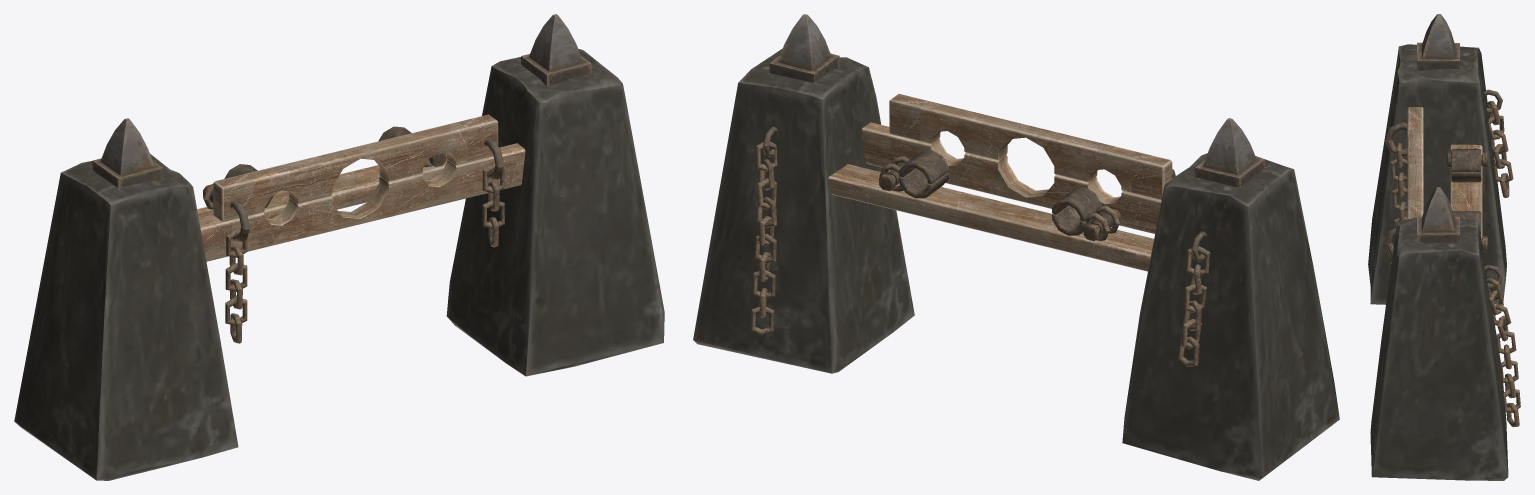
3 renders of one model, left to right at view 1: azimuth 30°, elevation 25°; view 2: azimuth 150°, elevation 25°; view 3: azimuth 270°, elevation 25°, orthographic. The views are drawn at different scales.
Parts seen in each view (by area): view 1: SM_HoldingBrace_01_LOD0; view 2: SM_HoldingBrace_01_LOD0; view 3: SM_HoldingBrace_01_LOD0.
Part boxes in pixels (bbox=[...]): SM_HoldingBrace_01_LOD0: bbox=[14, 14, 664, 480]; SM_HoldingBrace_01_LOD0: bbox=[693, 14, 1339, 480]; SM_HoldingBrace_01_LOD0: bbox=[1368, 14, 1520, 480].
Bounding box in the file's own units: 2.67 × 1.42 × 0.7438.
3 materials, 3 textured.
